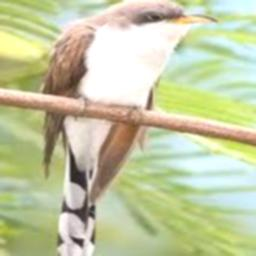Cuckoo: (42, 0, 218, 256)
